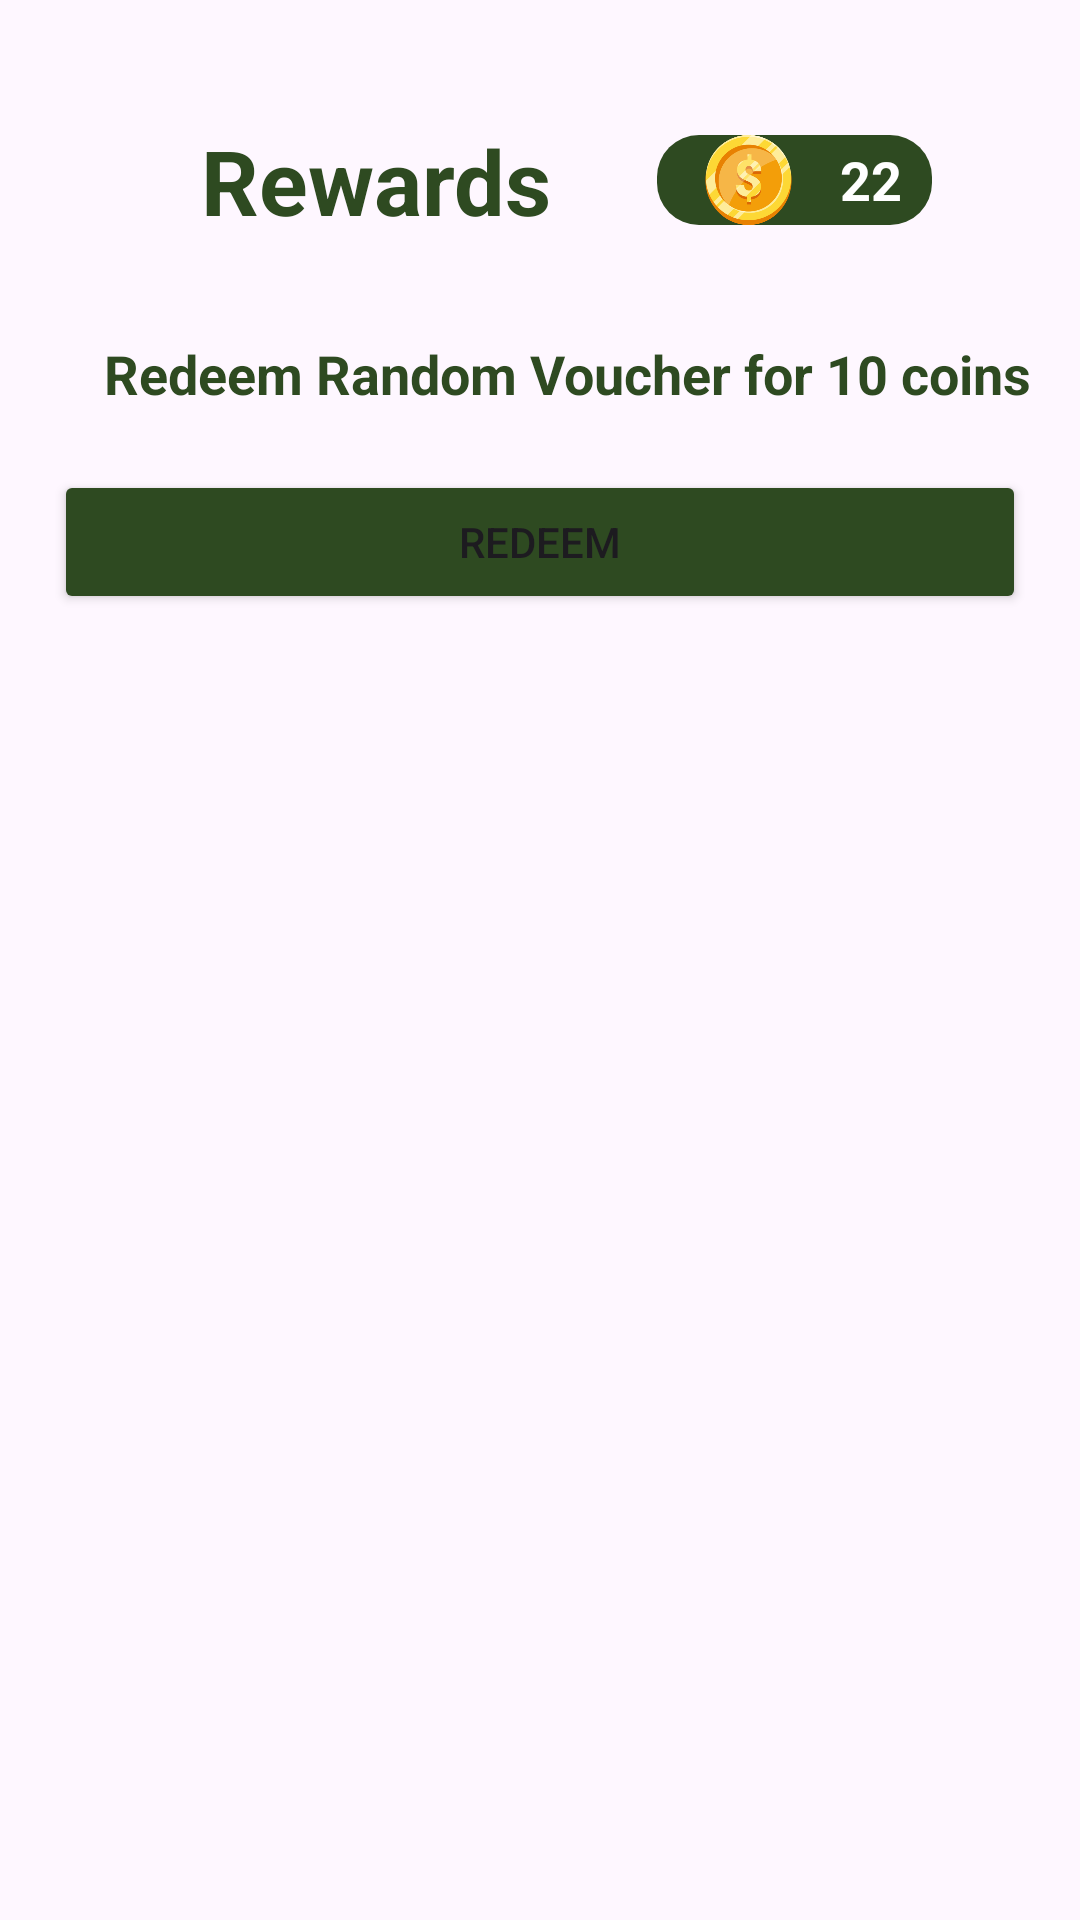

Named icons in this screenshot (1080 × 1920) and their bounding boxes, Rect(x1, y1, x2, y2):
dollar: Rect(687, 135, 810, 225)
